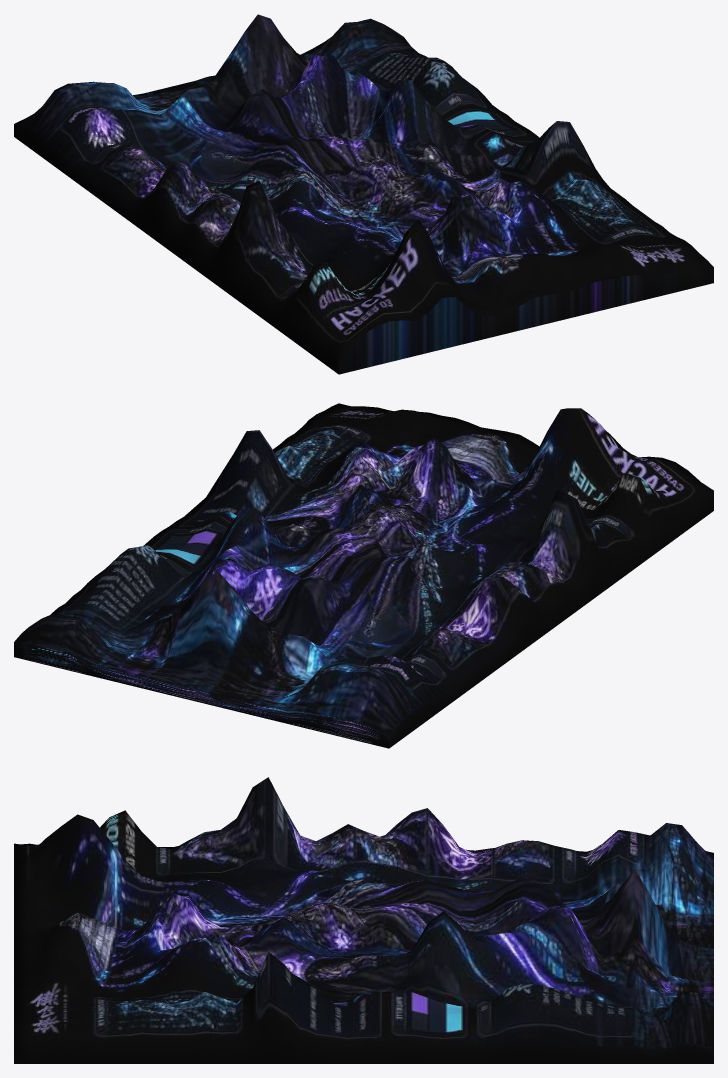
Rendered from CAREER_03_Outfit_06_Immortal.glb.
The picture shows the model from 3 angles, top to bottom: view 1: azimuth 30°, elevation 25°; view 2: azimuth 150°, elevation 25°; view 3: azimuth 270°, elevation 25°; orthographic projection. The views are drawn at different scales.
Visible parts, largest first — view 1: CAREER_03_Outfit_06_Immortal; view 2: CAREER_03_Outfit_06_Immortal; view 3: CAREER_03_Outfit_06_Immortal.
Boxes of the visible parts, <box> form: CAREER_03_Outfit_06_Immortal: <box>14,14,713,374</box>; CAREER_03_Outfit_06_Immortal: <box>14,403,713,748</box>; CAREER_03_Outfit_06_Immortal: <box>14,777,713,1063</box>.
Bounding box in the file's own units: 2 × 0.51 × 3.
1 material, 1 textured.
